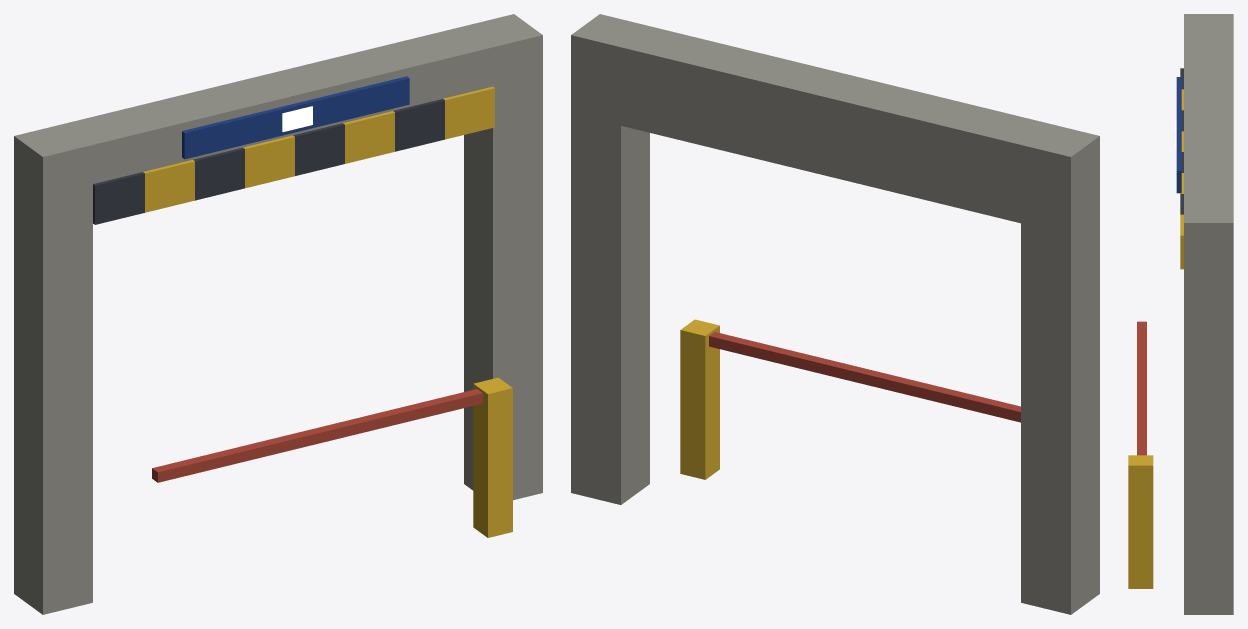
File: cc_entry.glb
The picture shows the model from 3 angles, left to right: view 1: azimuth 30°, elevation 25°; view 2: azimuth 150°, elevation 25°; view 3: azimuth 270°, elevation 25°; orthographic projection. The views are drawn at different scales.
Visible parts, largest first — view 1: city_cc_entry; view 2: city_cc_entry; view 3: city_cc_entry.
Boxes of the visible parts, <box> form: city_cc_entry: <box>14,14,542,614</box>; city_cc_entry: <box>571,14,1099,614</box>; city_cc_entry: <box>1128,14,1233,614</box>.
Size of the model in its own units: 4 by 3.5 by 0.85.
2 materials, 2 textured.
